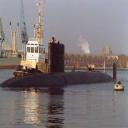submarine: (1, 45, 118, 89)
